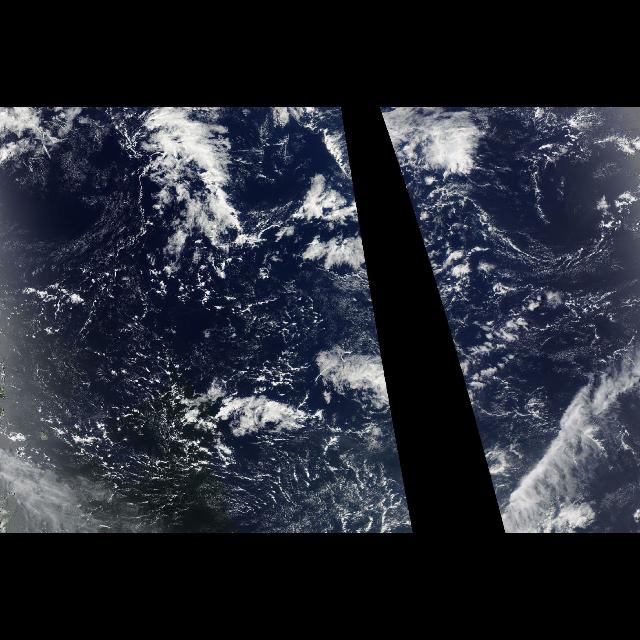Fish: (105, 122, 302, 245)
Gravel: (2, 225, 342, 533)
Sugar: (271, 431, 414, 532)
